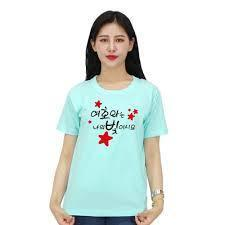Tshirt: (49, 74, 170, 220)
